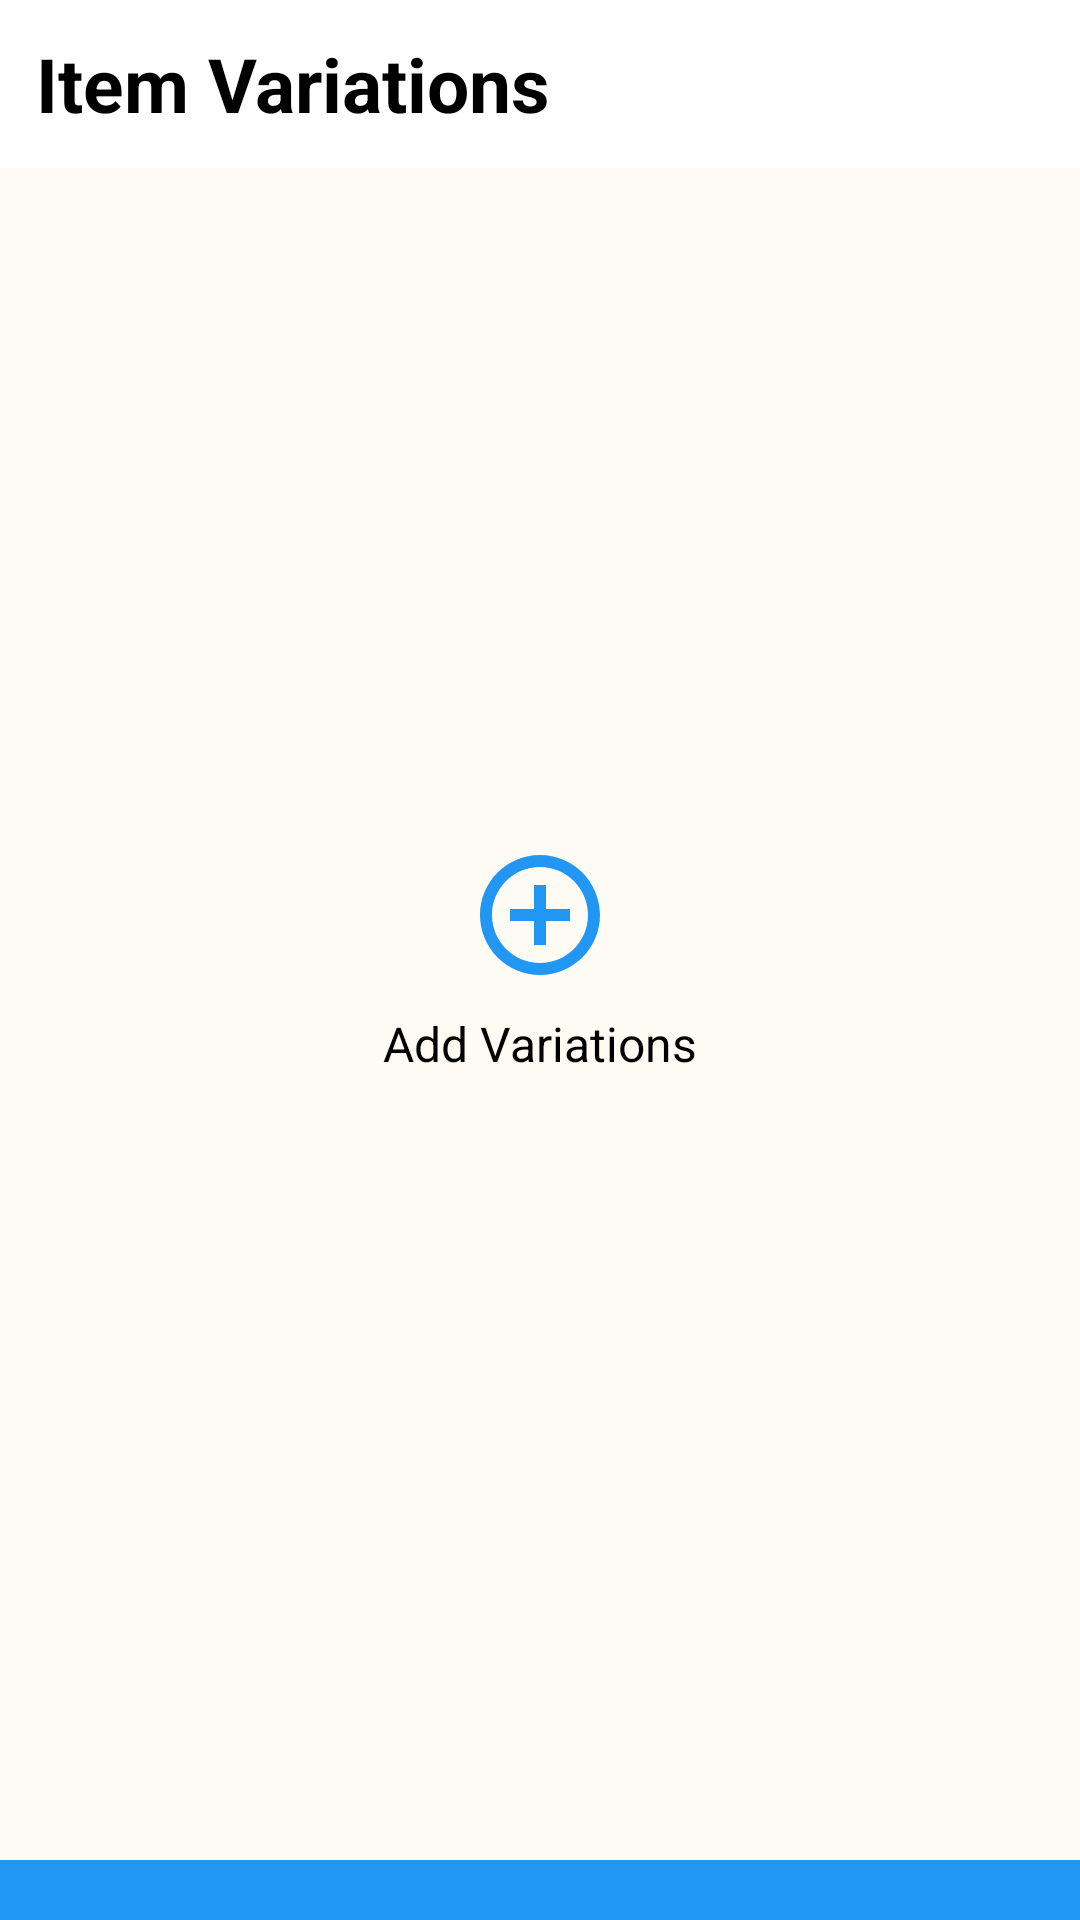

Icons on this 1080x1920 Android screen, each with the point to tap as (x=x, y=y):
add circle modifier: (x=540, y=915)
